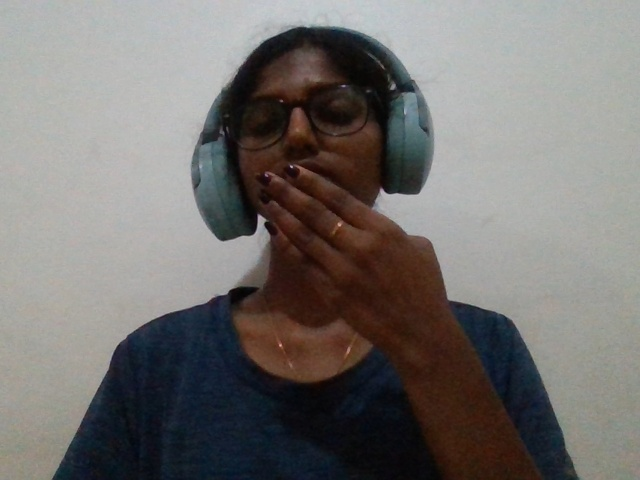Thanks: (225, 154, 453, 365)
